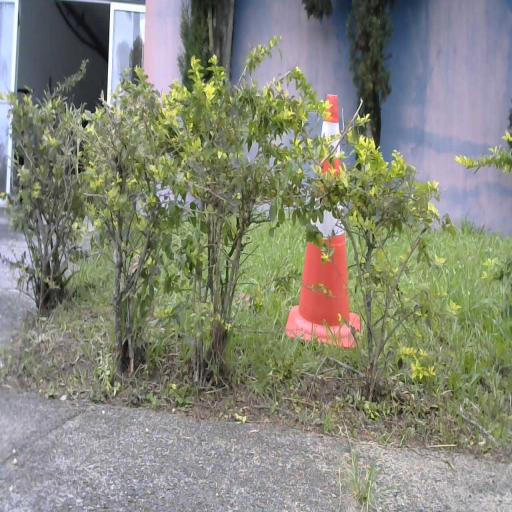cone: (286, 90, 362, 346)
